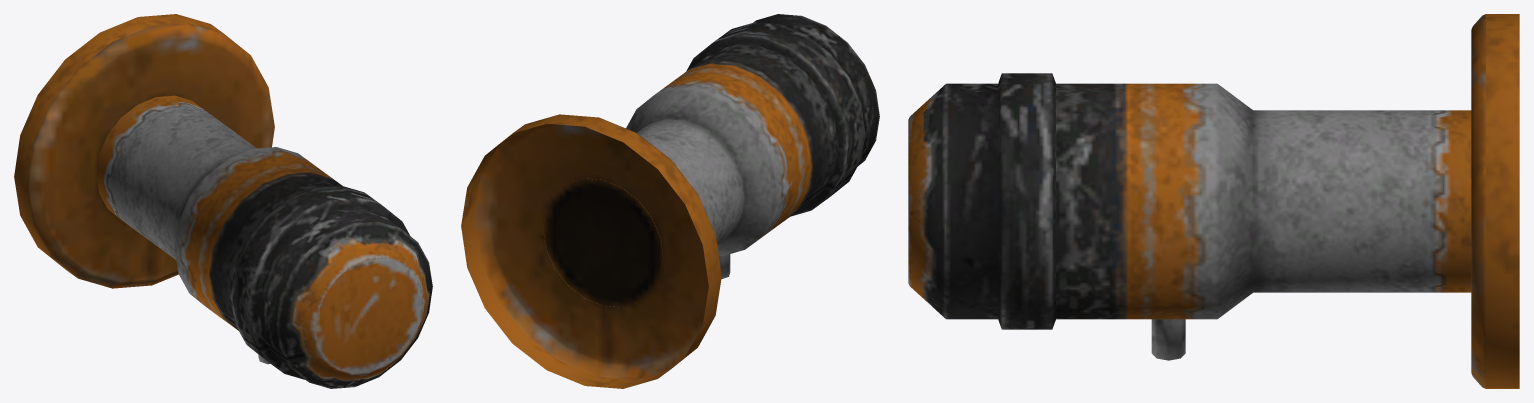
The model's file is pressurecap.DAE.
The picture shows the model from 3 angles, left to right: view 1: azimuth 30°, elevation 25°; view 2: azimuth 150°, elevation 25°; view 3: azimuth 270°, elevation 25°; orthographic projection. The views are drawn at different scales.
Visible parts, largest first — view 1: Prassurecap1; view 2: Prassurecap1; view 3: Prassurecap1.
Boxes of the visible parts, x1,y1,x2,y2 form: Prassurecap1: (14, 14, 432, 388); Prassurecap1: (461, 14, 879, 388); Prassurecap1: (908, 14, 1519, 388).
Size of the model in its own units: 0.1847 by 0.1847 by 0.2988.
